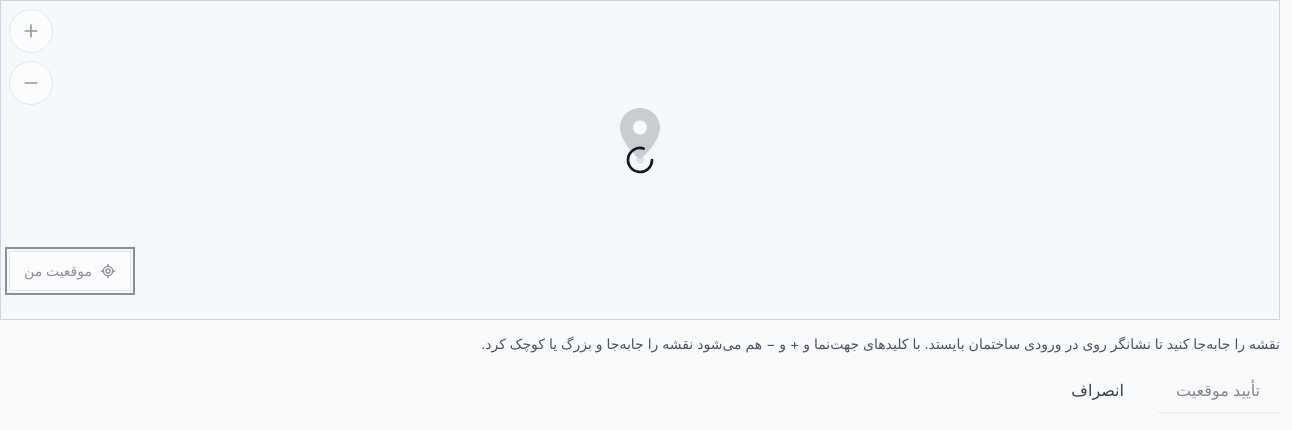
Test case: MapPicker › its overlay buttons wait for the map: nothing asked, nothing announced before it is there
Earlier steps of the test are not shown.
Click the button named "بزرگ‌نمایی" at (31, 31), box 9,9 -> 53,53
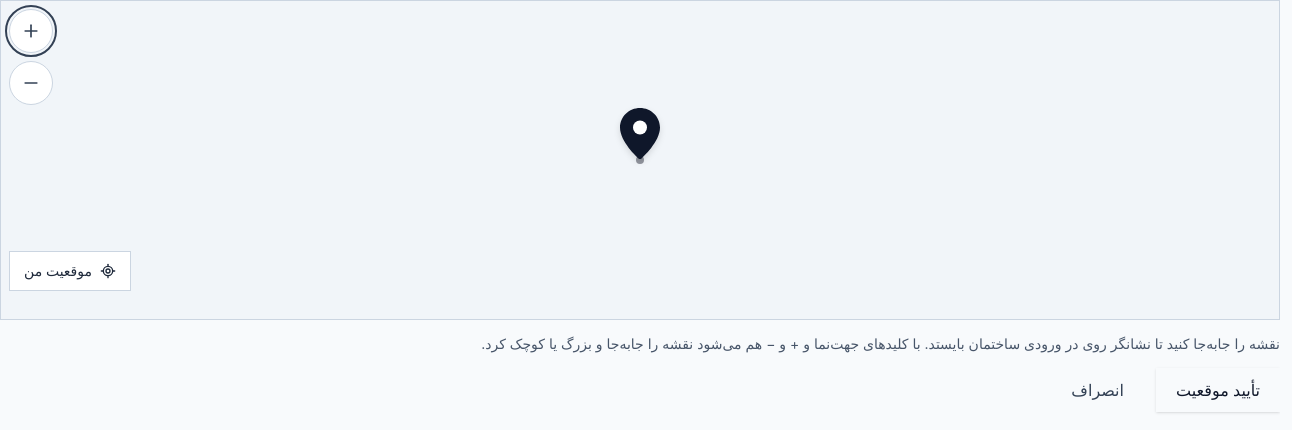
Result: the button "موقعیت من" does not have attribute aria-disabled at 9,251 -> 131,291
